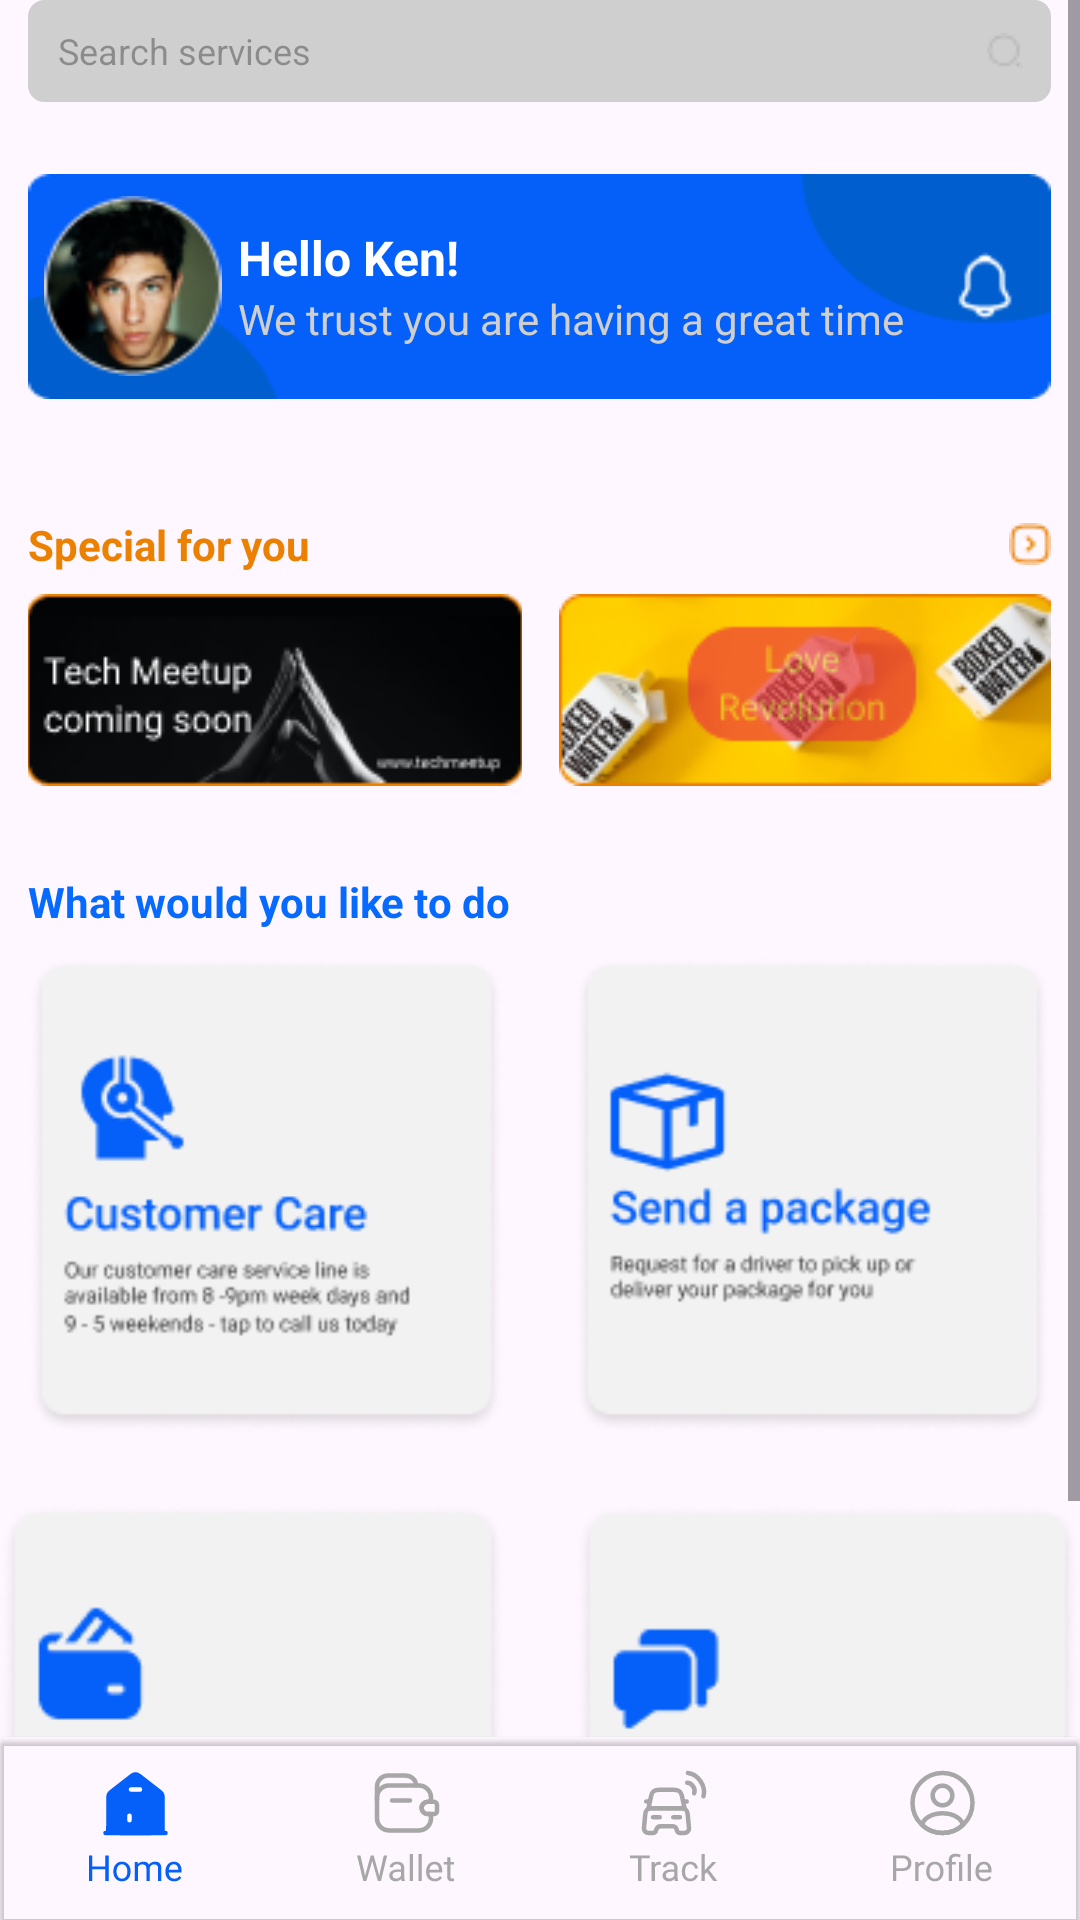

Where to tap for icons on this 1080×1920 app screen, as [x,y]:
notification: [985,286]
right: [1030,544]
